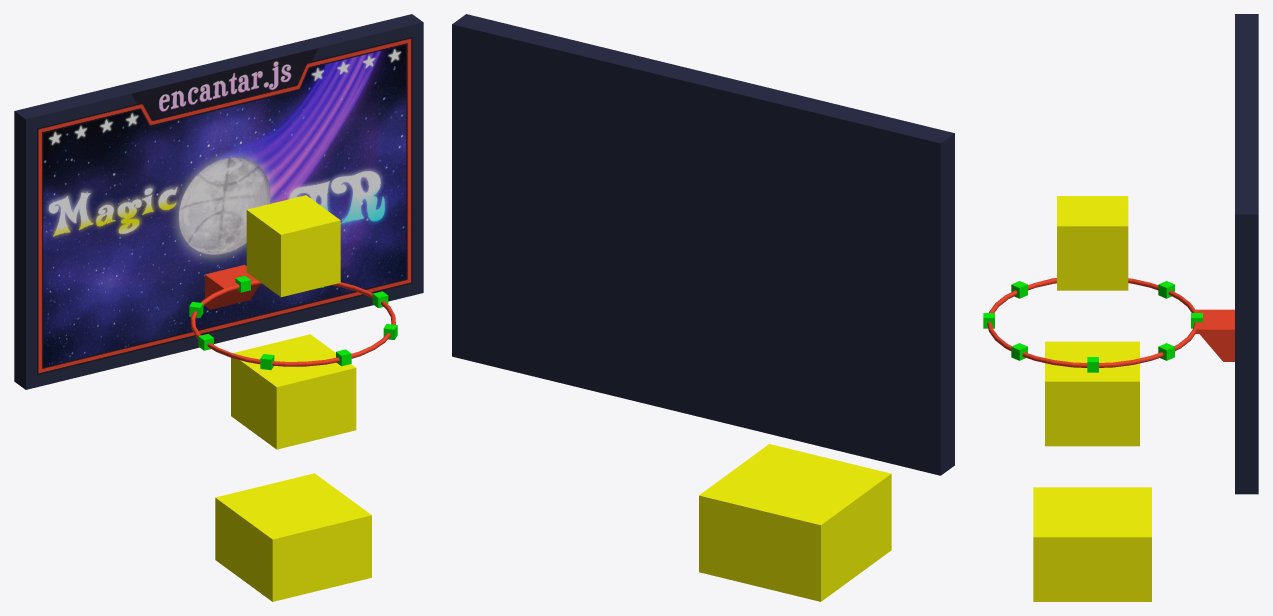
The model's file is goal.glb.
The picture shows the model from 3 angles, left to right: view 1: azimuth 30°, elevation 25°; view 2: azimuth 150°, elevation 25°; view 3: azimuth 270°, elevation 25°; orthographic projection. The views are drawn at different scales.
Visible parts, largest first — view 1: Basketball, Trigger_C, Trigger_B, Trigger_A; view 2: Basketball, Trigger_C; view 3: Basketball, Trigger_C, Trigger_B, Trigger_A.
Part boxes in pixels (bbox=[...]): Basketball: bbox=[14, 14, 423, 389]; Trigger_C: bbox=[215, 473, 371, 601]; Trigger_B: bbox=[231, 334, 356, 449]; Trigger_A: bbox=[246, 195, 340, 297]; Basketball: bbox=[452, 14, 954, 475]; Trigger_C: bbox=[699, 444, 891, 601]; Basketball: bbox=[987, 14, 1258, 494]; Trigger_C: bbox=[1033, 487, 1151, 601]; Trigger_B: bbox=[1045, 341, 1139, 446]; Trigger_A: bbox=[1057, 196, 1128, 290].
Size of what is drawn, in the model's own units: 2 by 2.15 by 1.16.
3 materials, 1 textured.
